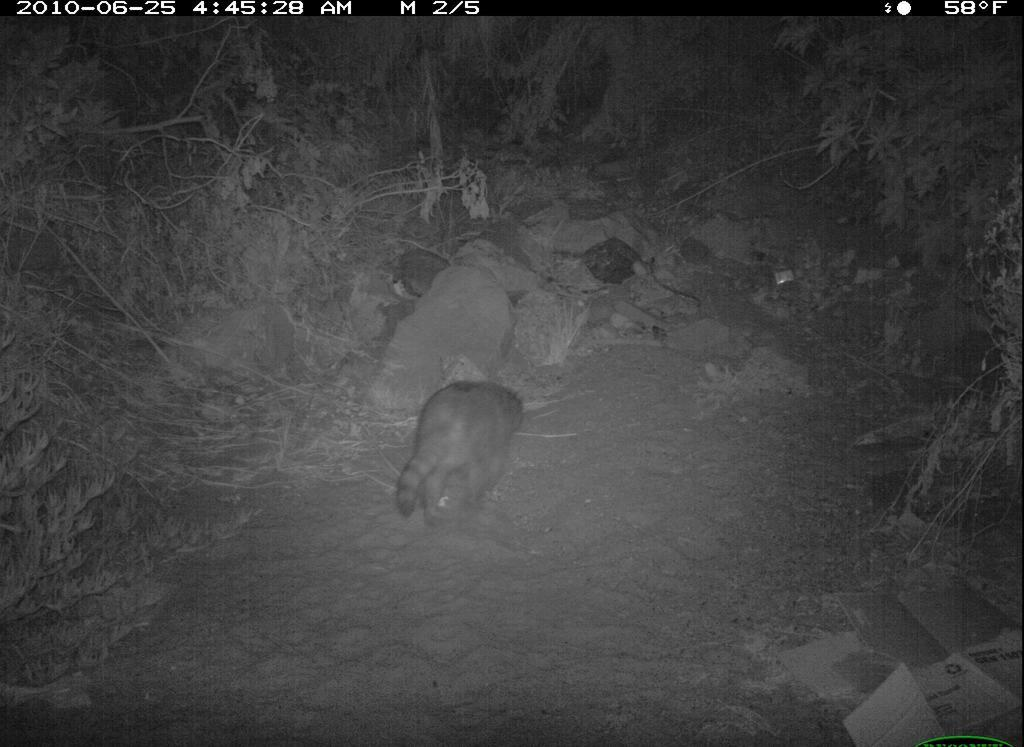raccoon: (391, 377, 532, 536)
